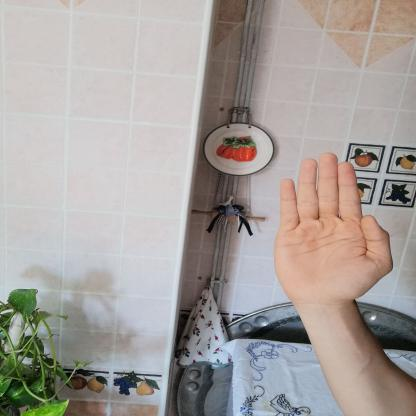SEEN: (265, 146, 402, 315)
